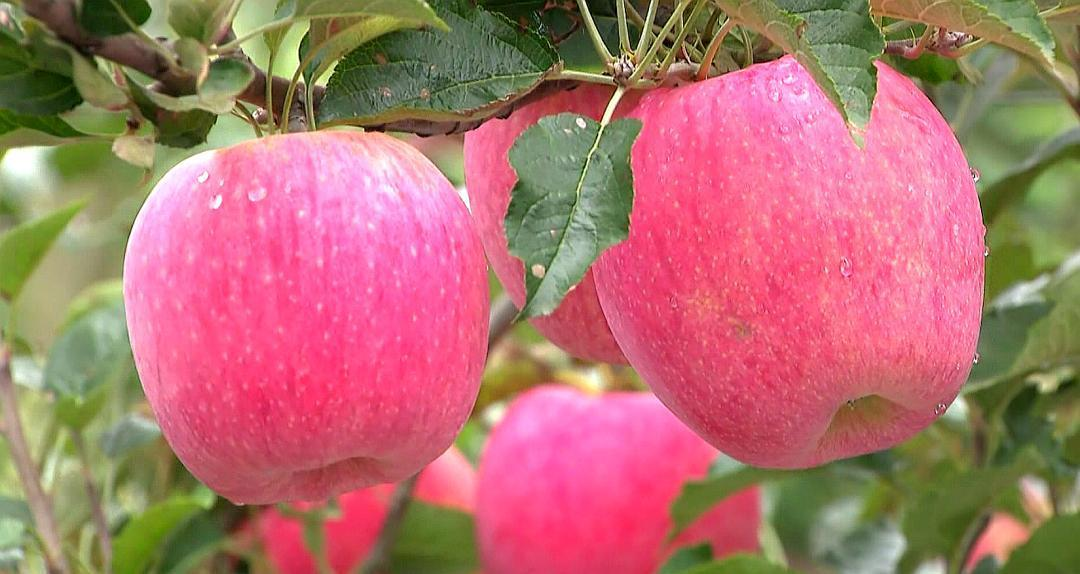apple: (591, 47, 988, 474), (124, 127, 491, 506), (457, 383, 763, 572), (460, 67, 641, 369)
